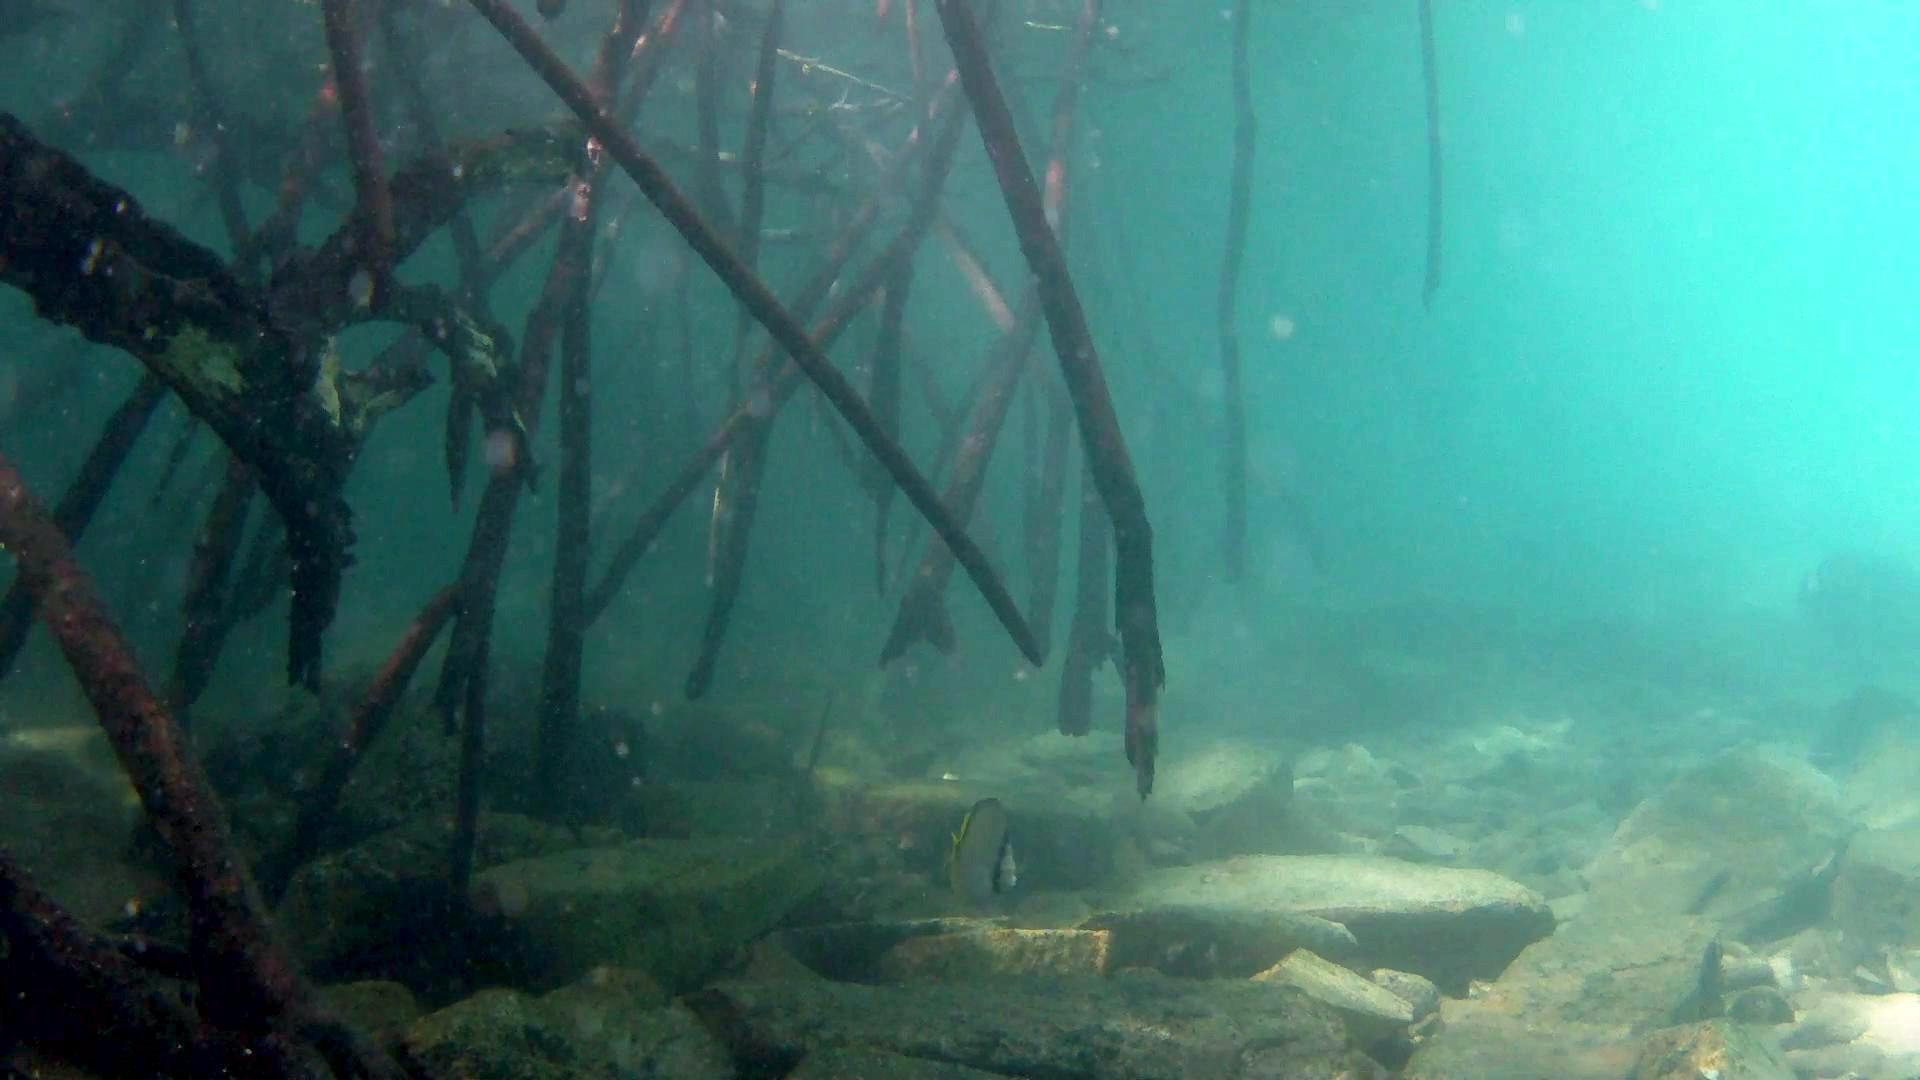chaetodon vagabundus: (936, 793, 1022, 909)
